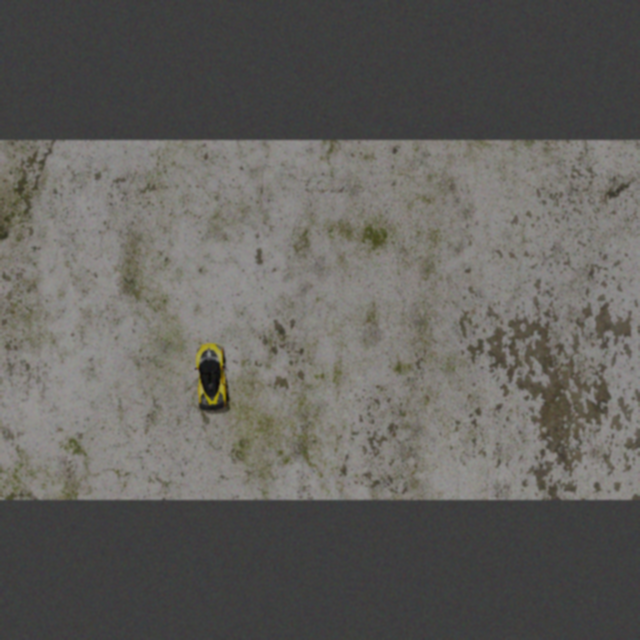car: (191, 341, 230, 411)
